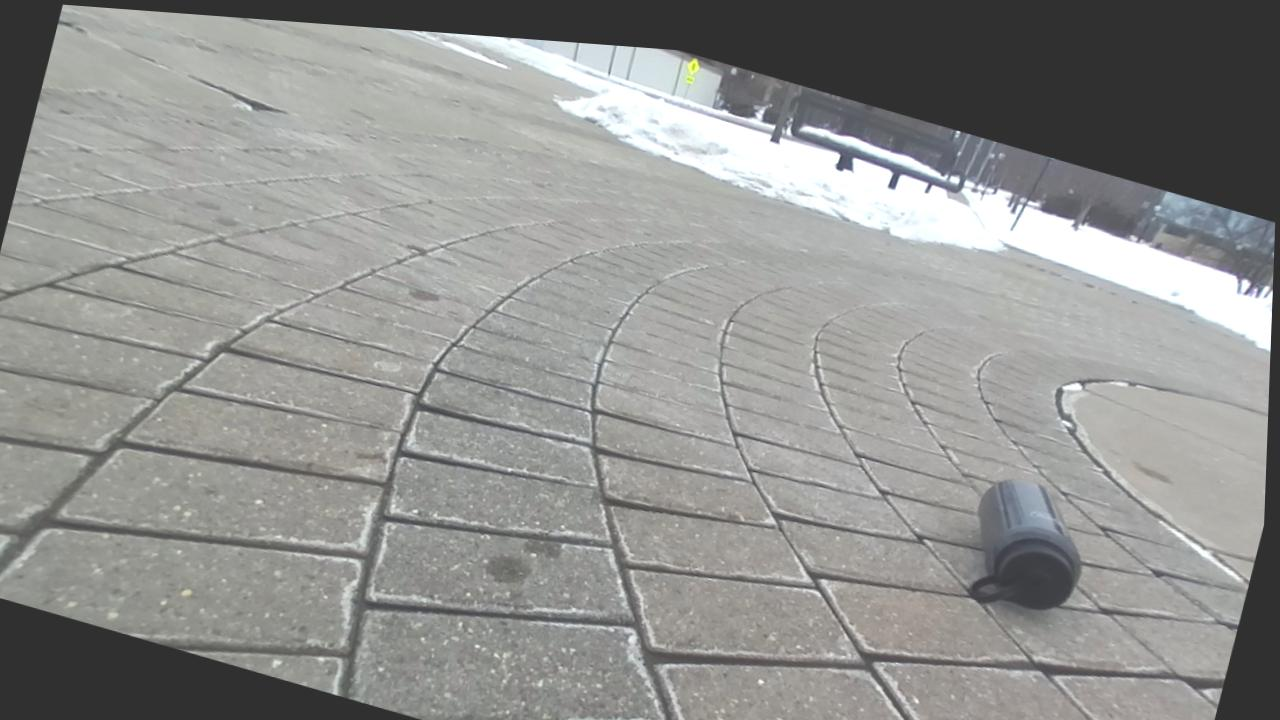bottle: (970, 479, 1080, 610)
